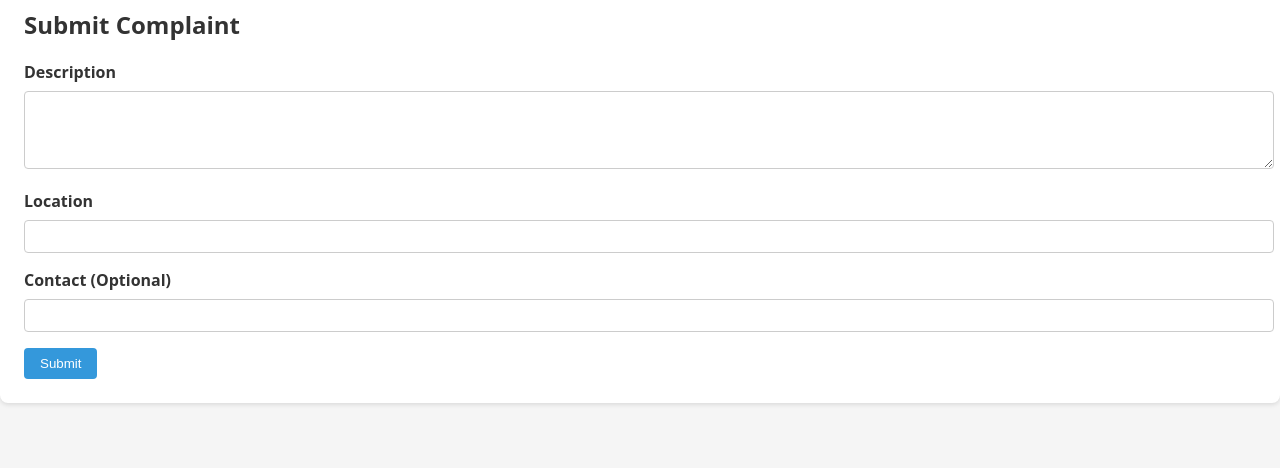
Test case: ComplaintForm › validates text length
Type "short" into the text box labelled "Description" at (649, 130), box top-left (24, 91), bottom-right (1274, 169)
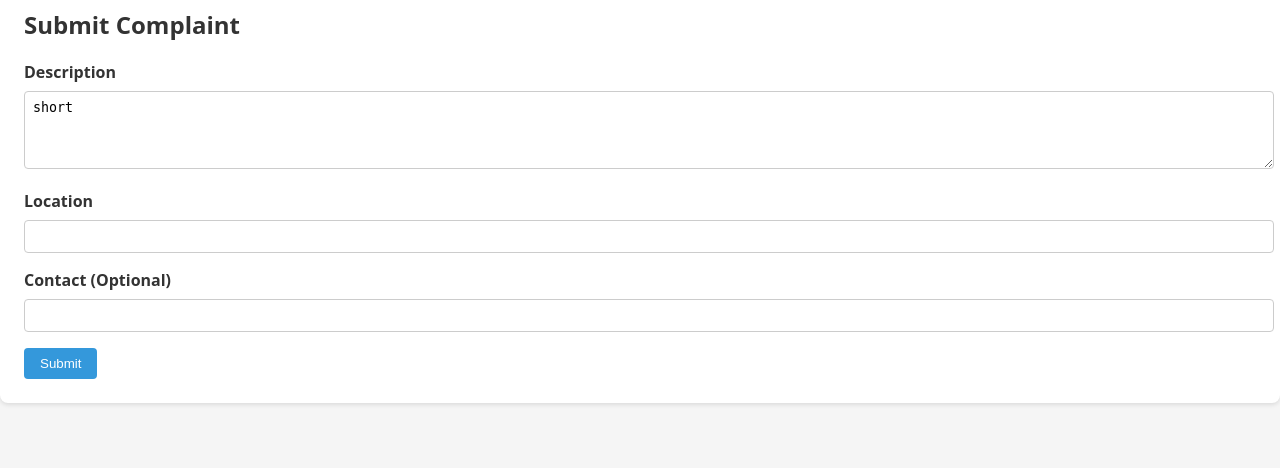
Click the button "Submit" at (61, 363), box top-left (24, 348), bottom-right (98, 379)
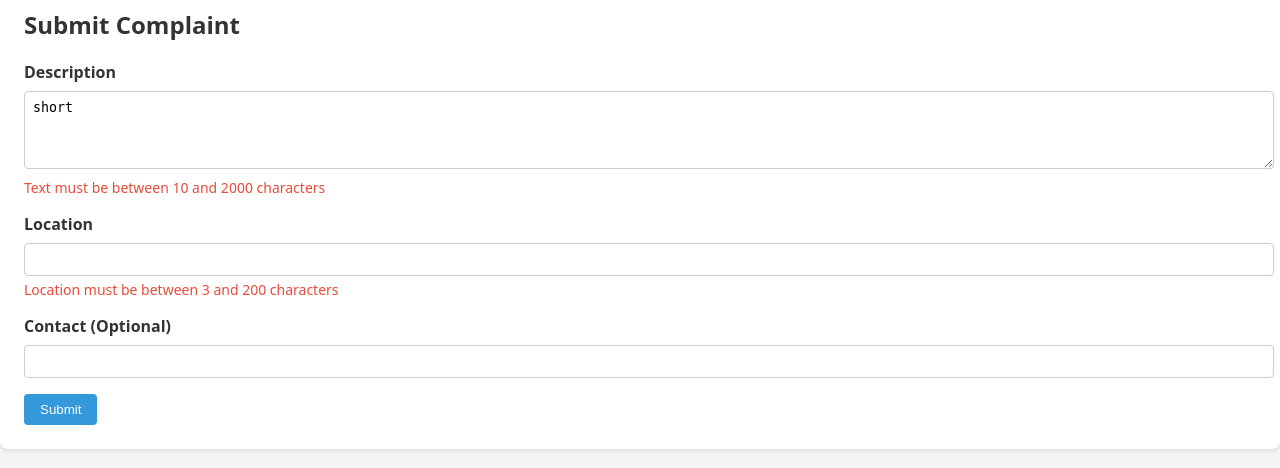
expect the text "Text must be between 10 and 2000 characters" is shown: met, box top-left (24, 178), bottom-right (325, 197)
